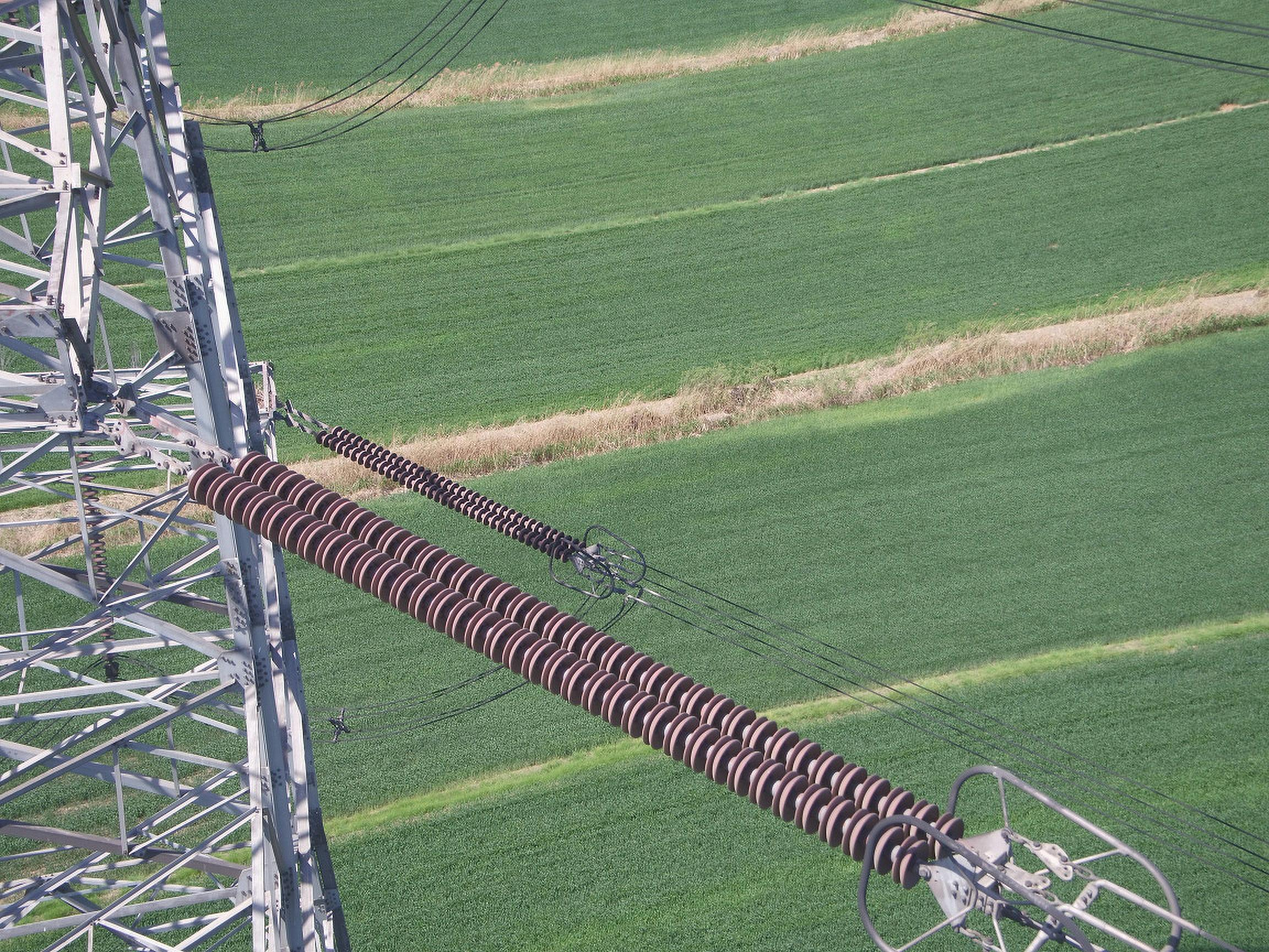insulator: (183, 447, 969, 893), (312, 423, 588, 565), (72, 450, 117, 645)
